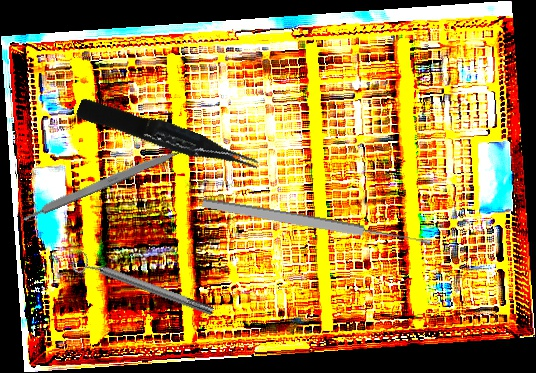Fixation Ring: (70, 248, 217, 324)
Scalpel Handle: (18, 145, 182, 224)
Surgical Spoon: (201, 196, 432, 250)
Tissue Forceps: (75, 90, 261, 184)
